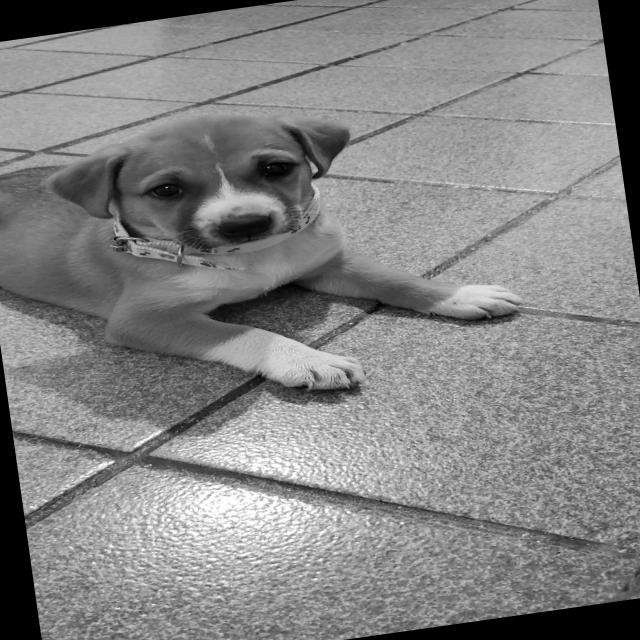laying down: (0, 66, 537, 442)
